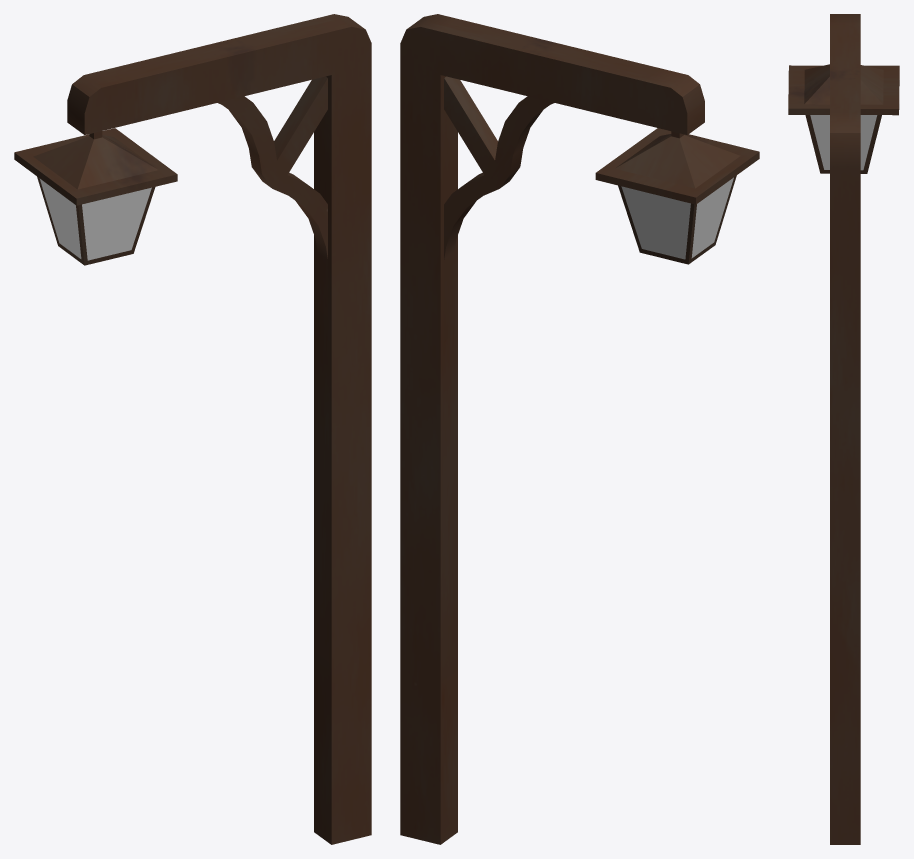
Rendered from laternnew.fbx.
3 renders of one model, left to right at view 1: azimuth 30°, elevation 25°; view 2: azimuth 150°, elevation 25°; view 3: azimuth 270°, elevation 25°, orthographic. The views are drawn at different scales.
Parts seen in each view (by area): view 1: Tiang lampu; view 2: Tiang lampu; view 3: Tiang lampu.
Boxes of the visible parts, box(x1,y1,x2,y2) form: Tiang lampu: box(14, 14, 371, 844); Tiang lampu: box(400, 14, 759, 844); Tiang lampu: box(788, 14, 899, 844).
Bounding box in the file's own units: 370 × 903 × 127.
